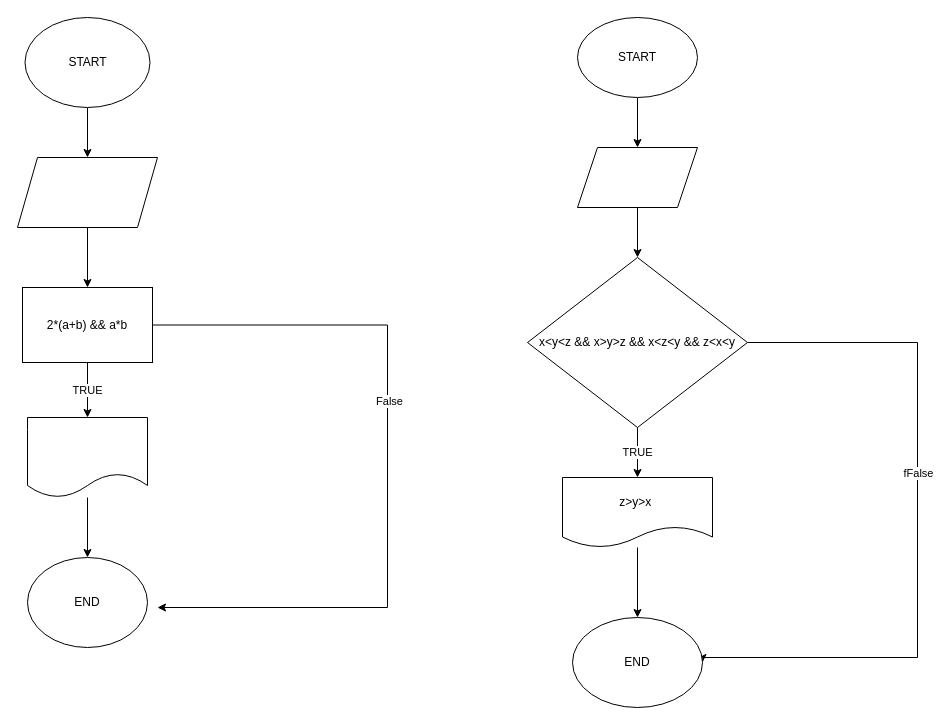
Some shapes in this 950 by 725 pixel diagram are drawn without their labels. The shapes that lost their labels are listed below. From the top down, each one's centre as x and y in pixels, then its label:
(x=87, y=192): D=ab
(x=637, y=177): x=1 y=2 z=3
(x=87, y=457): Perimetr ve sahe
